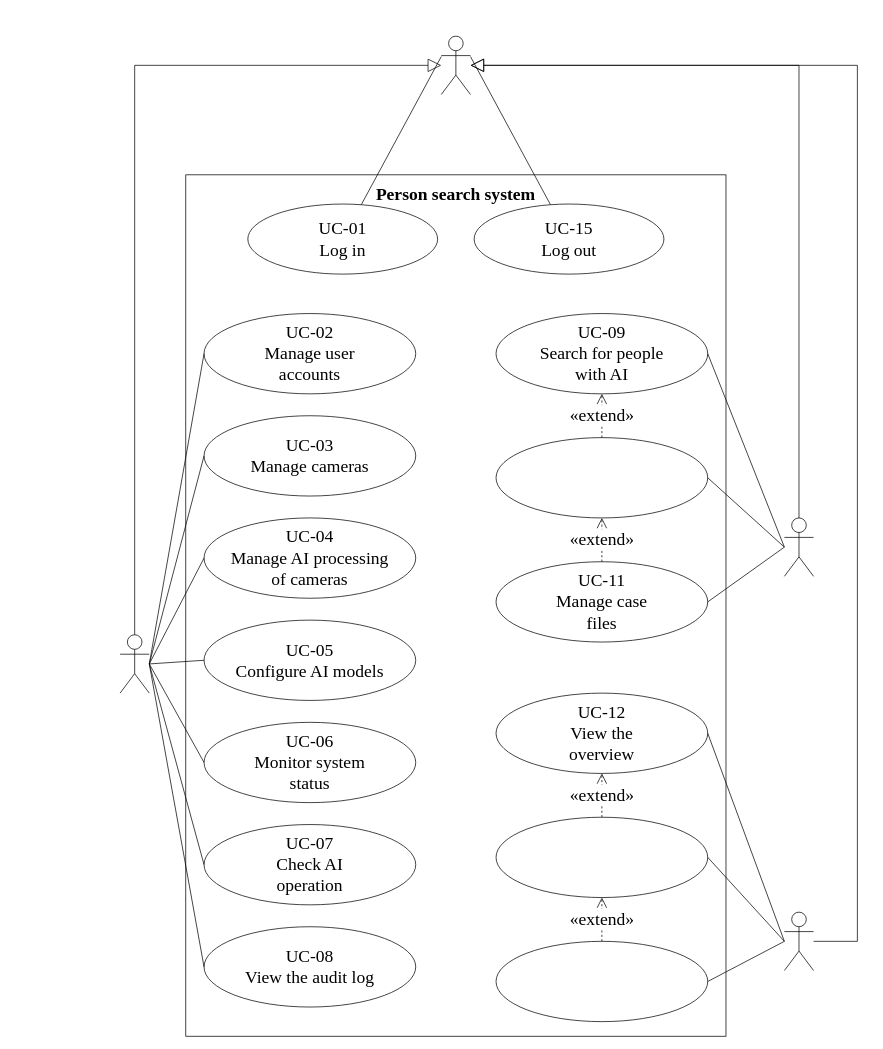
Some shapes in this 883 by 1049 pixel diagram are drawn without their labels. The shapes that lost their labels are listed below. From the top down, each one's box as (x1, y1, x2, y2) in pixels, then its label:
(441, 35, 470, 95): User
(495, 437, 708, 518): UC-10 View and assess search results
(784, 517, 814, 576): Operator
(119, 634, 149, 693): Administrator (Admin)
(495, 817, 708, 898): UC-13 View case files
(784, 911, 814, 971): Viewer
(495, 941, 708, 1022): UC-14 View saved search results
